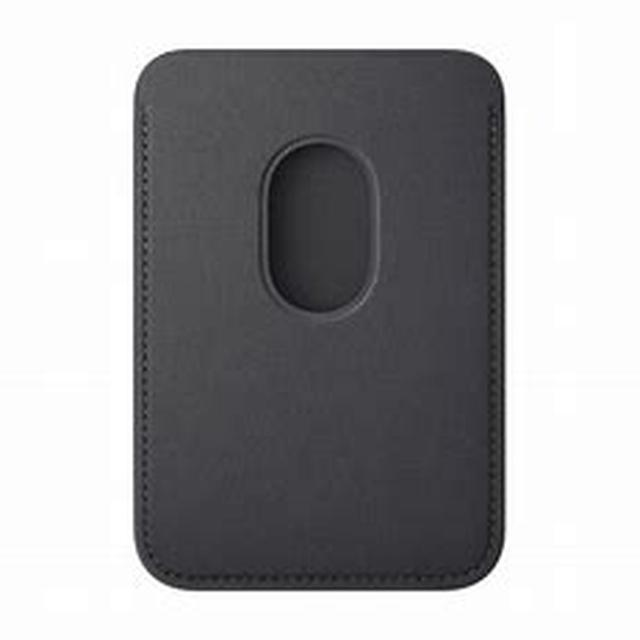wallet: (111, 21, 528, 623)
